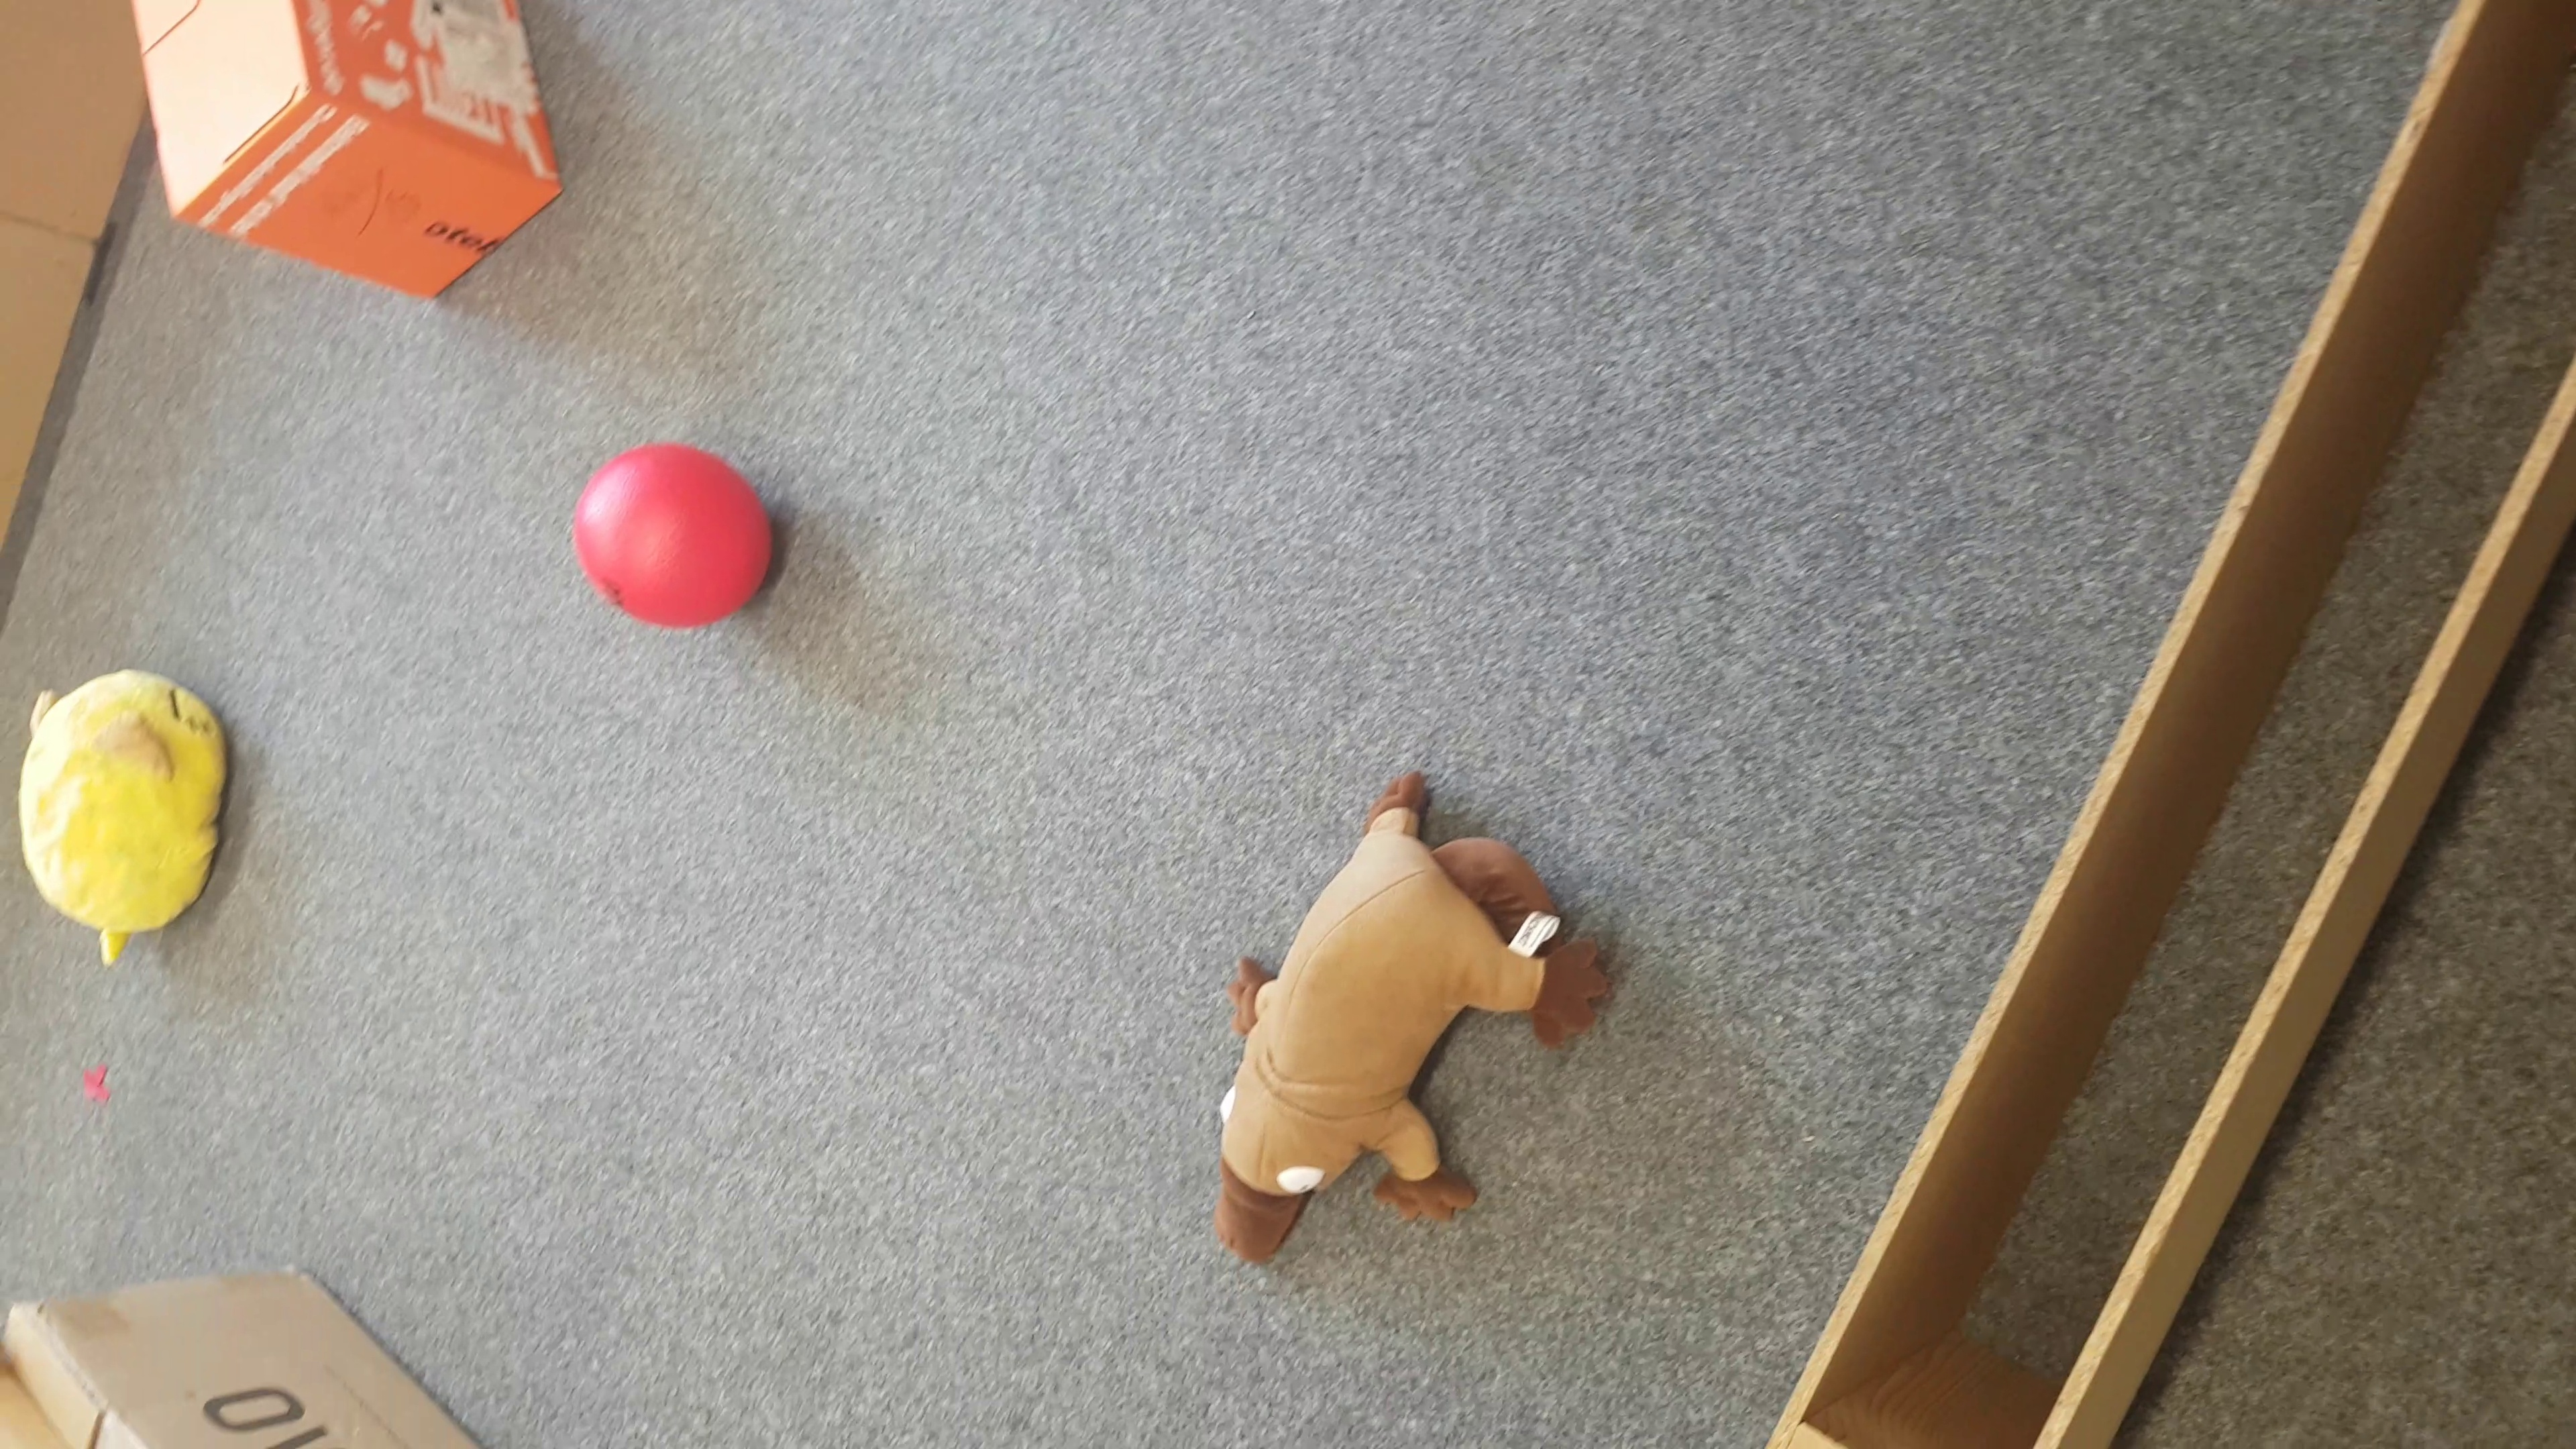grasp: (1215, 773, 1614, 1260), (23, 665, 228, 959)
kick: (571, 446, 775, 633)
push: (124, 0, 563, 303)
